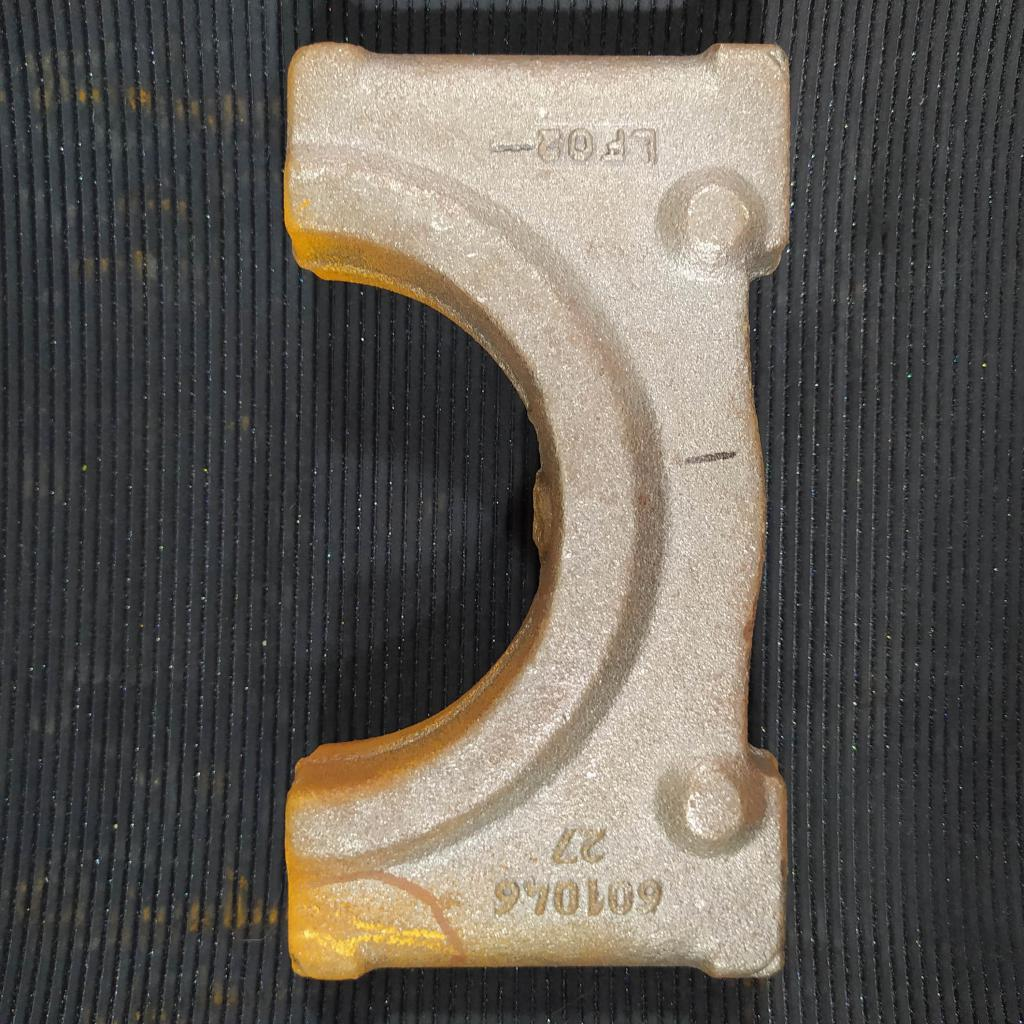rechupe: (750, 950, 786, 976), (767, 48, 790, 76), (289, 955, 310, 980)
